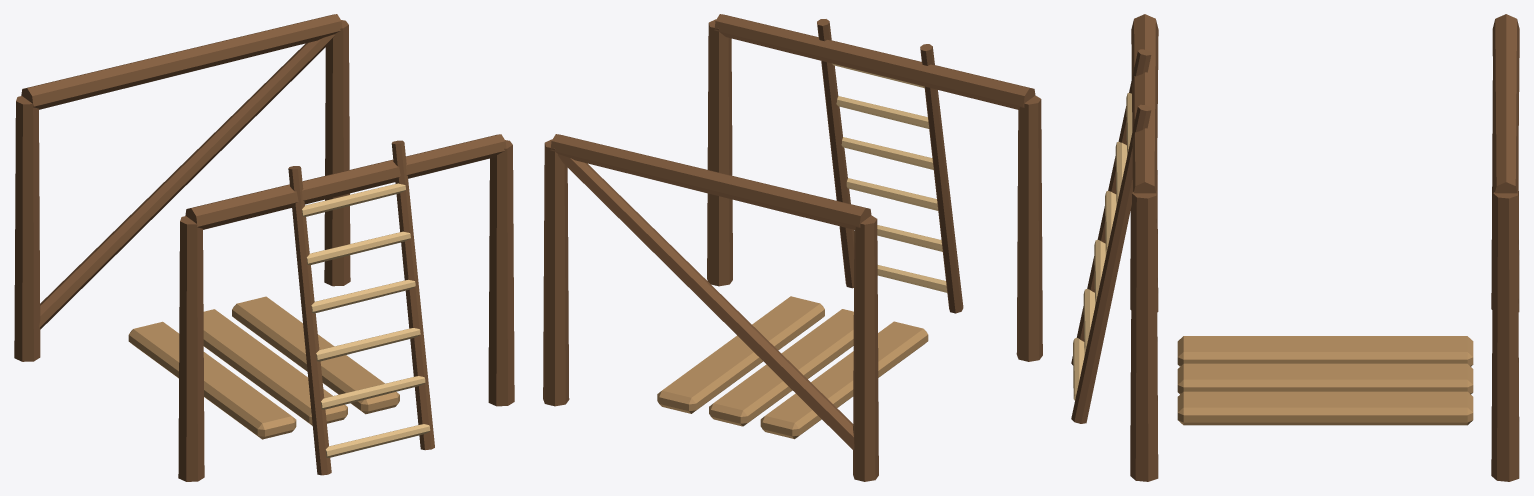
The model's file is CC_ConstructionFrame.fbx.
3 renders of one model, left to right at view 1: azimuth 30°, elevation 25°; view 2: azimuth 150°, elevation 25°; view 3: azimuth 270°, elevation 25°, orthographic. The views are drawn at different scales.
Parts seen in each view (by area): view 1: Header.001, Diagonal brace, Header, Frame post, Frame post.001, Frame post.002, Staged plank, Frame post.003, Staged plank.001, Staged plank.002, Ladder side, Ladder side.001 (+6 smaller); view 2: Header.001, Header, Diagonal brace, Frame post, Frame post.001, Frame post.003, Staged plank.002, Frame post.002, Staged plank.001, Staged plank, Ladder side, Ladder side.001 (+5 smaller); view 3: Staged plank.002, Staged plank.001, Staged plank, Frame post.003, Frame post.002, Header.001, Ladder side.001, Header, Ladder side, Frame post.001, Rung, Rung.002 (+3 smaller).
Part boxes in pixels (box(x1,y1,x2,y2)): Header.001: box(21, 14, 342, 109); Diagonal brace: box(39, 34, 334, 329); Header: box(185, 134, 506, 229); Frame post: box(178, 216, 204, 481); Frame post.001: box(14, 96, 40, 361); Frame post.002: box(488, 140, 514, 406); Staged plank: box(128, 321, 296, 439); Frame post.003: box(324, 20, 350, 286); Staged plank.001: box(203, 309, 347, 425); Staged plank.002: box(232, 296, 399, 414); Ladder side: box(288, 166, 331, 475); Ladder side.001: box(391, 140, 434, 450); Header.001: box(550, 134, 871, 229); Header: box(714, 14, 1035, 109); Diagonal brace: box(558, 154, 854, 449); Frame post: box(1016, 95, 1042, 361); Frame post.001: box(853, 215, 878, 481); Frame post.003: box(543, 139, 569, 406); Staged plank.002: box(657, 296, 824, 413); Frame post.002: box(707, 19, 732, 286); Staged plank.001: box(709, 309, 853, 426); Staged plank: box(760, 321, 928, 439); Ladder side: box(920, 44, 963, 313); Ladder side.001: box(817, 19, 854, 288); Staged plank.002: box(1177, 391, 1473, 425); Staged plank.001: box(1177, 363, 1473, 394); Staged plank: box(1177, 336, 1473, 366); Frame post.003: box(1491, 191, 1519, 481); Frame post.002: box(1130, 191, 1158, 481); Header.001: box(1492, 14, 1519, 193); Ladder side.001: box(1071, 104, 1151, 423); Header: box(1131, 14, 1158, 195); Ladder side: box(1071, 49, 1151, 365); Frame post.001: box(1491, 80, 1519, 311); Rung: box(1073, 337, 1085, 400); Rung.002: box(1094, 239, 1106, 301).
Size of the model in its own units: 2.58 by 2.12 by 2.73.
